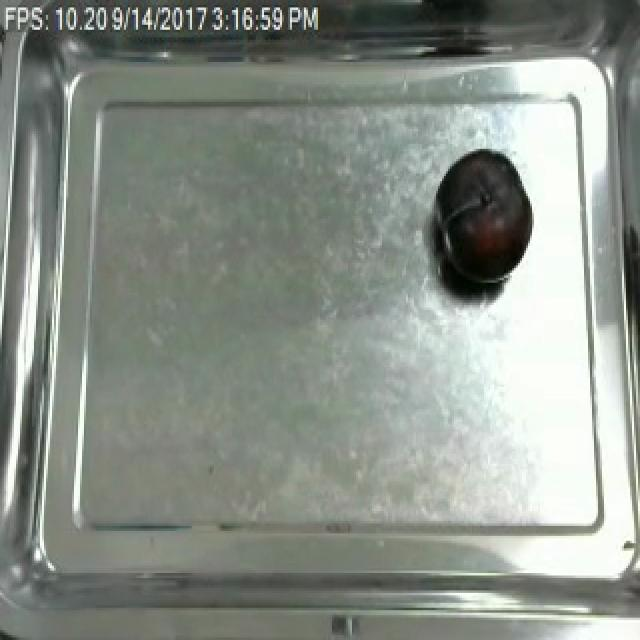Fruit: (428, 144, 538, 295)
